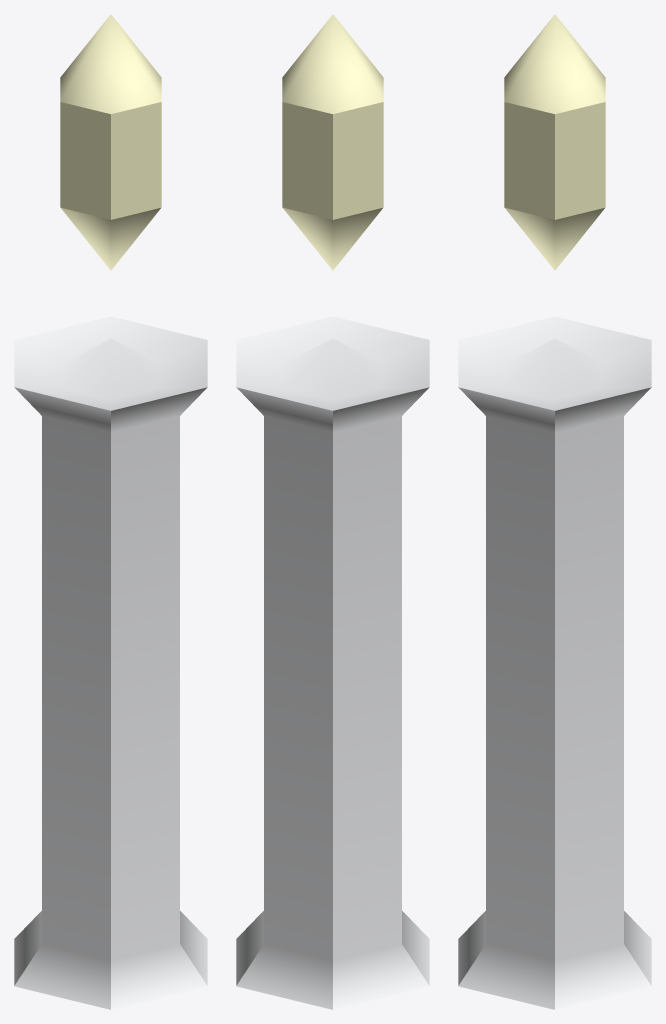
File: Wall.fbx
3 renders of one model, left to right at view 1: azimuth 30°, elevation 25°; view 2: azimuth 150°, elevation 25°; view 3: azimuth 270°, elevation 25°, orthographic.
Parts seen in each view (by area): view 1: pCylinder2, pCylinder1; view 2: pCylinder2, pCylinder1; view 3: pCylinder2, pCylinder1.
Boxes of the visible parts, bbox=[...] form: pCylinder2: bbox=[14, 316, 207, 1009]; pCylinder1: bbox=[60, 14, 161, 270]; pCylinder2: bbox=[236, 316, 429, 1009]; pCylinder1: bbox=[282, 14, 383, 270]; pCylinder2: bbox=[458, 316, 651, 1009]; pCylinder1: bbox=[504, 14, 605, 270].
Size of the model in its own units: 3.83 by 17.95 by 3.32.
1 material, 1 textured.
